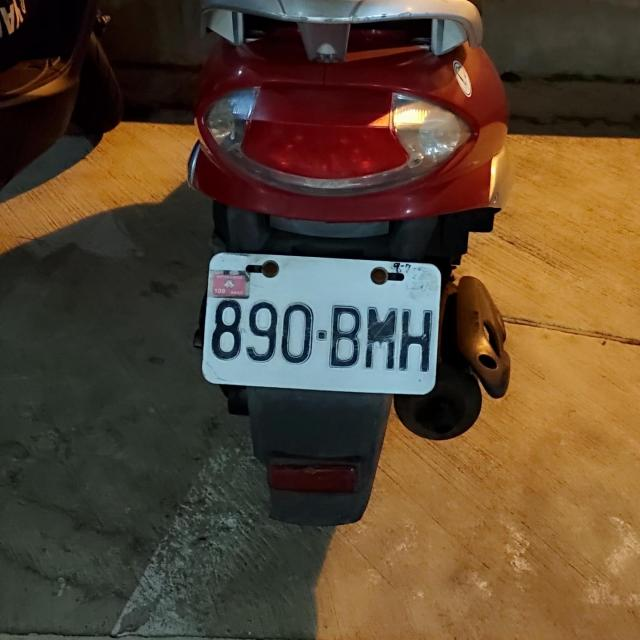W: (200, 248, 445, 397)
